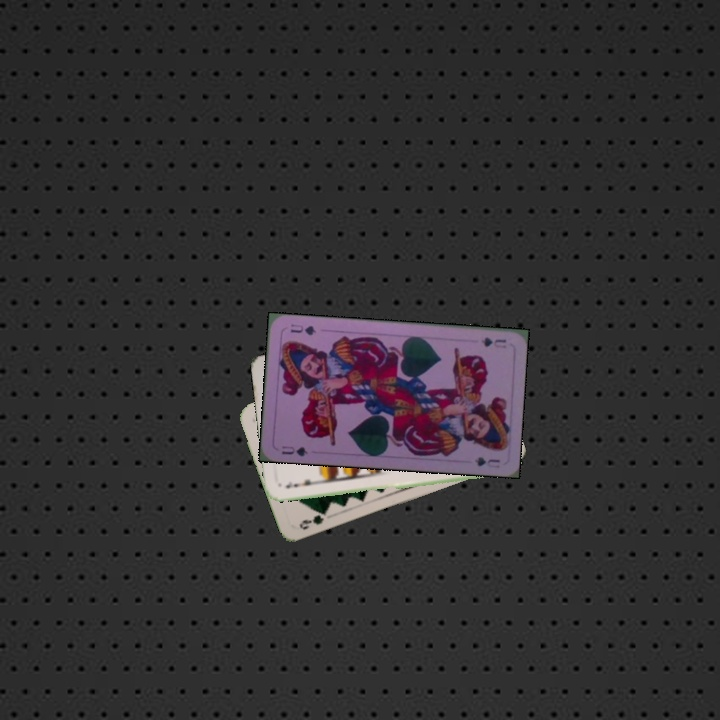E7: (282, 476, 319, 491)
G9: (295, 507, 330, 532)
GU: (278, 442, 311, 459), (477, 333, 509, 350)
